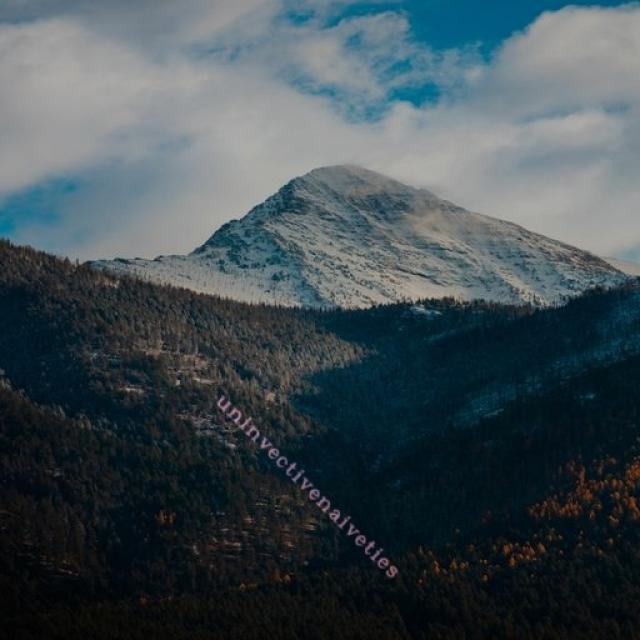watermark: (208, 385, 406, 582)
